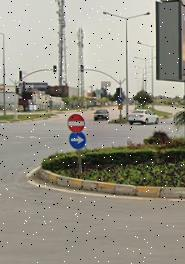turnright: (69, 132, 86, 148)
